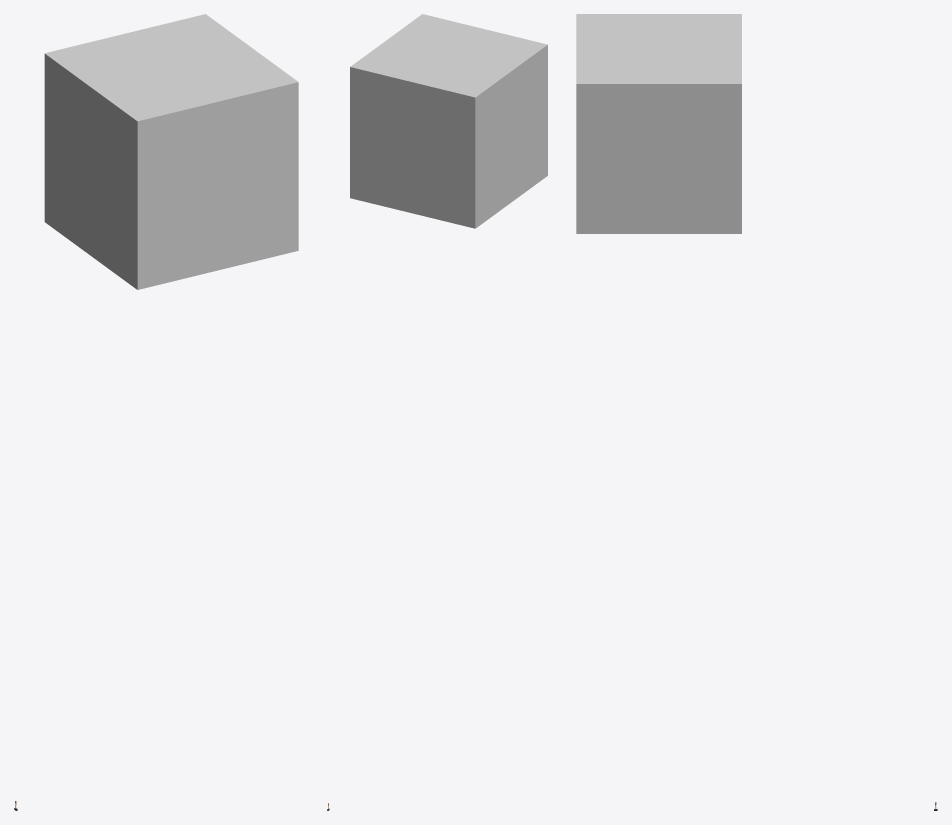
File: ClubHammer.fbx
The picture shows the model from 3 angles, left to right: view 1: azimuth 30°, elevation 25°; view 2: azimuth 150°, elevation 25°; view 3: azimuth 270°, elevation 25°; orthographic projection. The views are drawn at different scales.
Visible parts, largest first — view 1: Cube.001; view 2: Cube.001; view 3: Cube.001.
Part boxes in pixels (x1,y1,x2,y2): Cube.001: (44,14,298,289); Cube.001: (350,14,547,228); Cube.001: (576,14,741,233).
Bounding box in the file's own units: 4.73 × 24.01 × 10.32.
